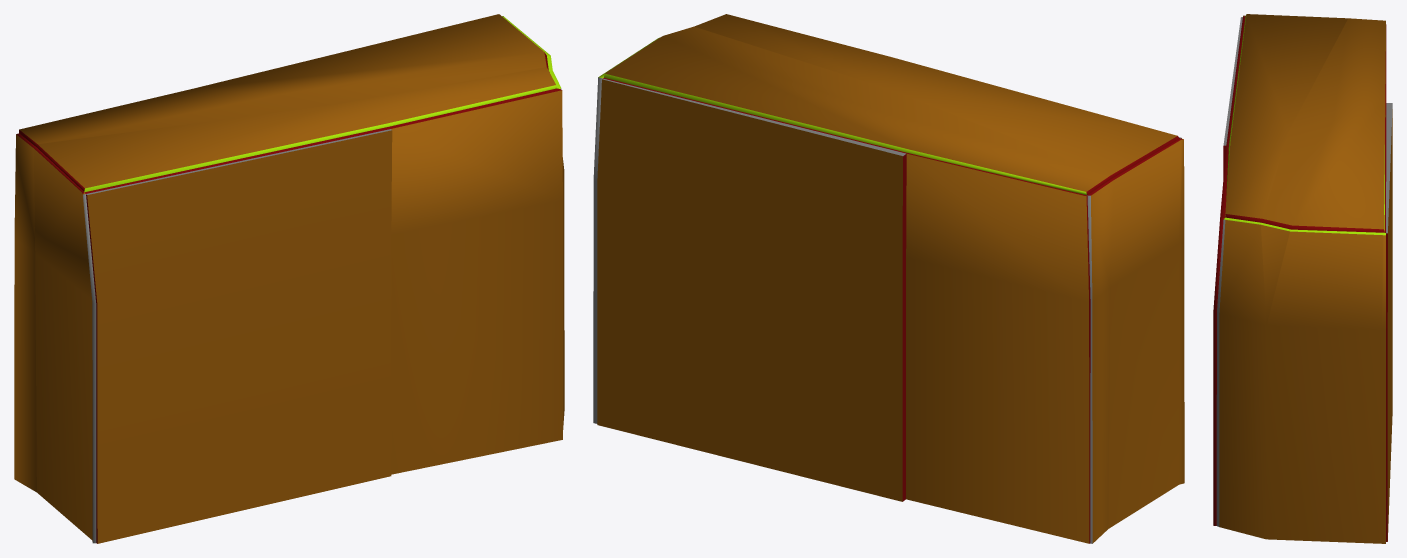
Rendered from longblockycliff.fbx.
The picture shows the model from 3 angles, left to right: view 1: azimuth 30°, elevation 25°; view 2: azimuth 150°, elevation 25°; view 3: azimuth 270°, elevation 25°; orthographic projection. The views are drawn at different scales.
Parts seen in each view (by area): view 1: Cylinder002; view 2: Cylinder002; view 3: Cylinder002.
Boxes of the visible parts, left/top/right/bottom form: Cylinder002: left=14, top=14, right=564, bottom=543; Cylinder002: left=593, top=14, right=1184, bottom=543; Cylinder002: left=1213, top=14, right=1392, bottom=543.
Size of the model in its own units: 10.83 by 3.74 by 7.16.
